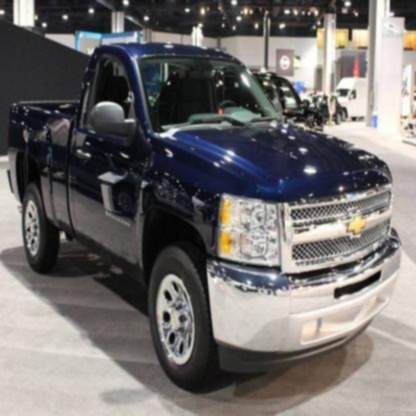Vehicle: (6, 41, 402, 396)
